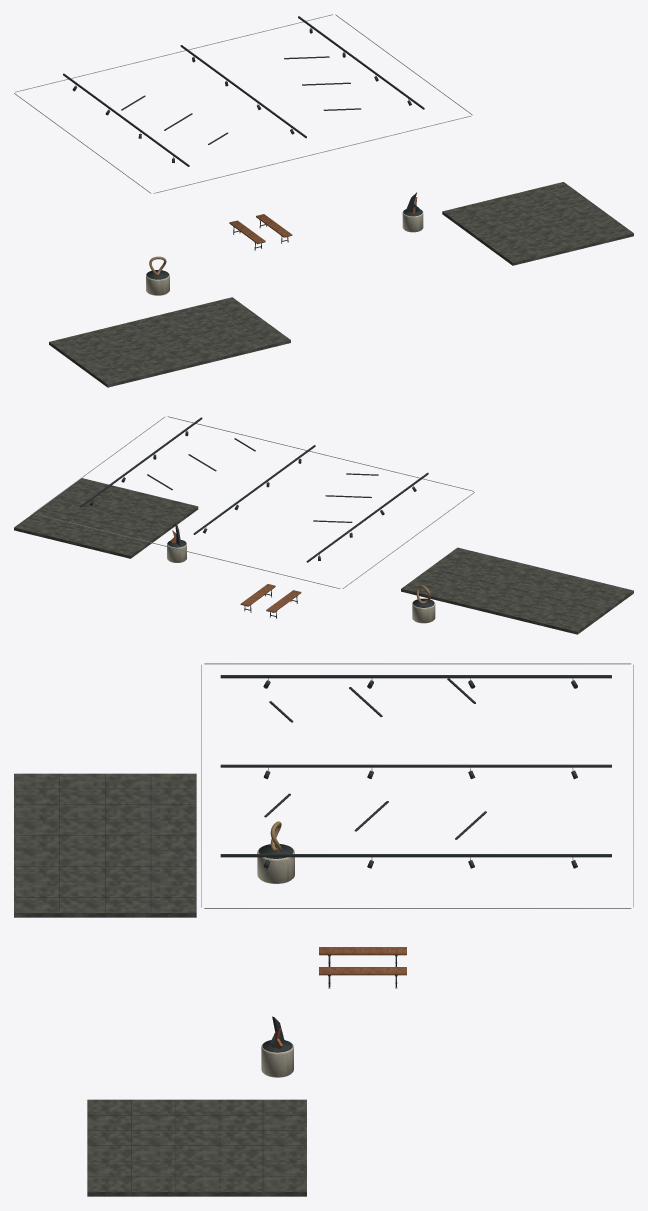
The model's file is gallery.glb.
3 renders of one model, top to bottom at view 1: azimuth 30°, elevation 25°; view 2: azimuth 150°, elevation 25°; view 3: azimuth 270°, elevation 25°, orthographic. The views are drawn at different scales.
Visible parts, largest first — view 1: gallery - M05 Basalt, gallery - M06 Blackened steel, gallery - M06 Satin nickel, gallery - M09 Travertine, gallery - M03 Smoked walnut; view 2: gallery - M05 Basalt, gallery - M06 Blackened steel, gallery - M06 Satin nickel, gallery - M09 Travertine, gallery - M03 Smoked walnut; view 3: gallery - M05 Basalt, gallery - M06 Blackened steel, gallery - M06 Satin nickel, gallery - M09 Travertine, gallery - M03 Smoked walnut.
Part boxes in pixels (left/top/right/bottom): gallery - M05 Basalt: left=49, top=182, right=633, bottom=387; gallery - M06 Blackened steel: left=63, top=16, right=618, bottom=379; gallery - M06 Satin nickel: left=14, top=14, right=472, bottom=250; gallery - M09 Travertine: left=146, top=210, right=423, bottom=295; gallery - M03 Smoked walnut: left=229, top=214, right=292, bottom=244; gallery - M05 Basalt: left=14, top=478, right=633, bottom=634; gallery - M06 Blackened steel: left=28, top=417, right=618, bottom=626; gallery - M06 Satin nickel: left=33, top=416, right=474, bottom=618; gallery - M09 Travertine: left=167, top=541, right=435, bottom=623; gallery - M03 Smoked walnut: left=240, top=584, right=301, bottom=612; gallery - M05 Basalt: left=14, top=773, right=306, bottom=1196; gallery - M06 Blackened steel: left=15, top=675, right=611, bottom=1191; gallery - M06 Satin nickel: left=201, top=663, right=633, bottom=988; gallery - M09 Travertine: left=257, top=846, right=294, bottom=1077; gallery - M03 Smoked walnut: left=319, top=947, right=406, bottom=975.
Bounding box in the file's own units: 26.95 × 6.5 × 16.87.
8 materials, 3 textured.
